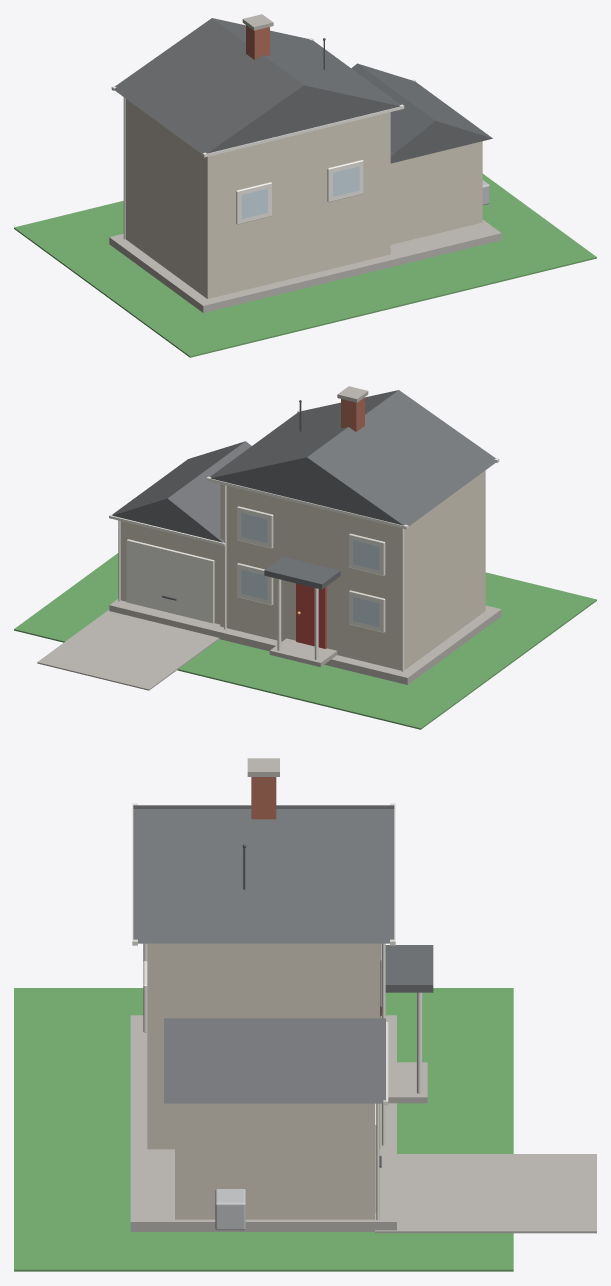
Rendered from suburban_house.glb.
The picture shows the model from 3 angles, top to bottom: view 1: azimuth 30°, elevation 25°; view 2: azimuth 150°, elevation 25°; view 3: azimuth 270°, elevation 25°; orthographic projection. The views are drawn at different scales.
Parts seen in each view (by area): view 1: main_body, lawn, main_roof, garage_body, foundation, garage_roof, rear_window_l_trim, rear_window_r_trim, main_rear_gutter, chimney, rear_window_r_glass, rear_window_l_glass; view 2: main_body, lawn, main_roof, driveway, garage_roof, garage_door_panel, foundation, garage_body, door_slab, porch_roof, window_fl_trim, window_ur_trim (+11 smaller); view 3: lawn, main_roof, garage_body, main_body, garage_roof, driveway, foundation, porch_roof, porch_slab, ac_cabinet, chimney, porch_post_r.
Part boxes in pixels (x1,y1,x2,y2): main_body: (125,99,390,298); lawn: (14,174,596,357); main_roof: (113,18,400,153); garage_body: (390,141,482,244); foundation: (109,219,501,312); garage_roof: (351,63,492,163); rear_window_l_trim: (236,182,272,224); rear_window_r_trim: (327,160,363,202); main_rear_gutter: (202,104,404,157); chimney: (246,25,269,59); rear_window_r_glass: (333,166,359,196); rear_window_l_glass: (241,188,267,218); main_body: (220,470,485,670); lawn: (14,553,596,729); main_roof: (210,390,496,525); driveway: (37,610,219,690); garage_roof: (112,441,251,542); garage_door_panel: (126,539,214,623); foundation: (109,599,501,684); garage_body: (120,521,220,624); door_slab: (296,583,326,648); porch_roof: (264,556,340,589); window_fl_trim: (349,590,385,632); window_ur_trim: (237,506,273,548); lawn: (14,988,513,1271); main_roof: (133,805,394,943); garage_body: (175,1103,374,1219); main_body: (147,943,380,1149); garage_roof: (164,1018,385,1103); driveway: (375,1154,596,1233); foundation: (130,1015,396,1231); porch_roof: (385,945,433,992); porch_slab: (388,1062,427,1103); ac_cabinet: (215,1189,245,1230); chimney: (251,777,276,819); porch_post_r: (416,992,422,1093).
Size of the model in its own units: 12 by 6.61 by 10.5.
